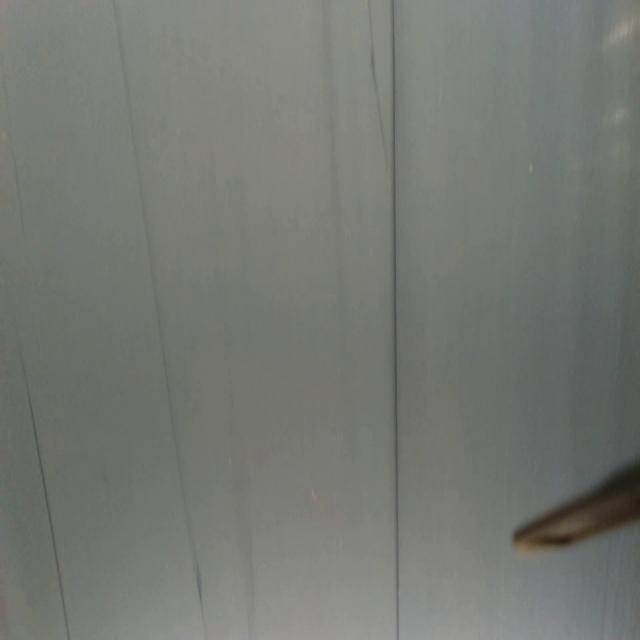crease: (114, 0, 208, 639), (8, 305, 71, 640), (388, 0, 402, 639), (365, 0, 388, 158), (8, 123, 29, 240)
hole: (309, 482, 319, 503), (526, 160, 536, 179)
